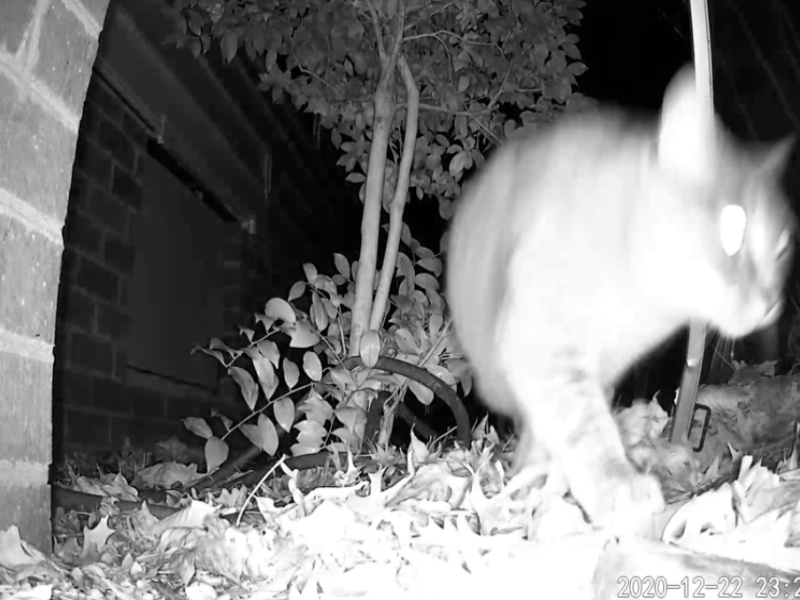cat: (443, 62, 793, 555)
